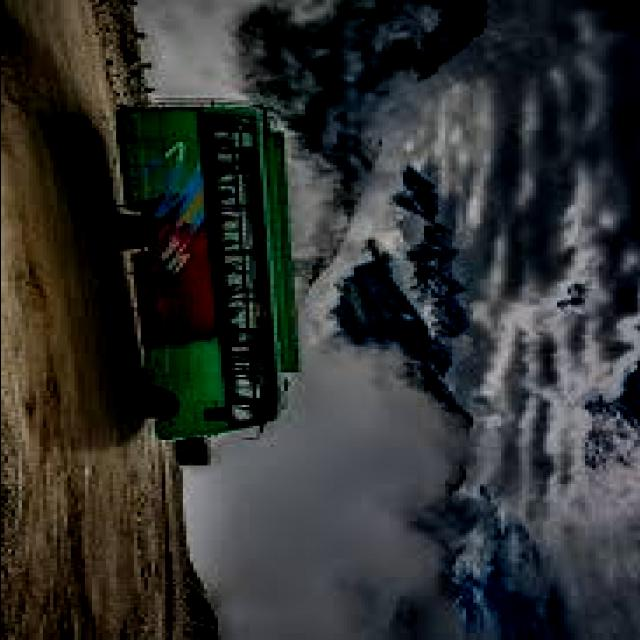bus: (98, 94, 318, 459)
